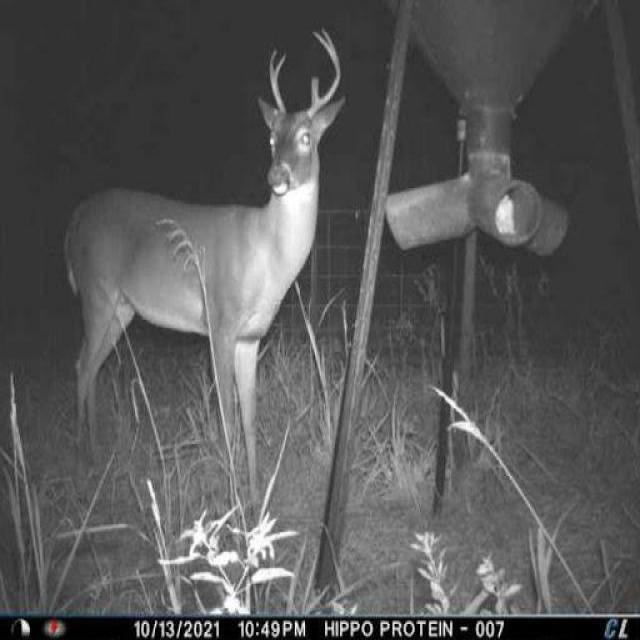deer: (58, 21, 348, 531)
